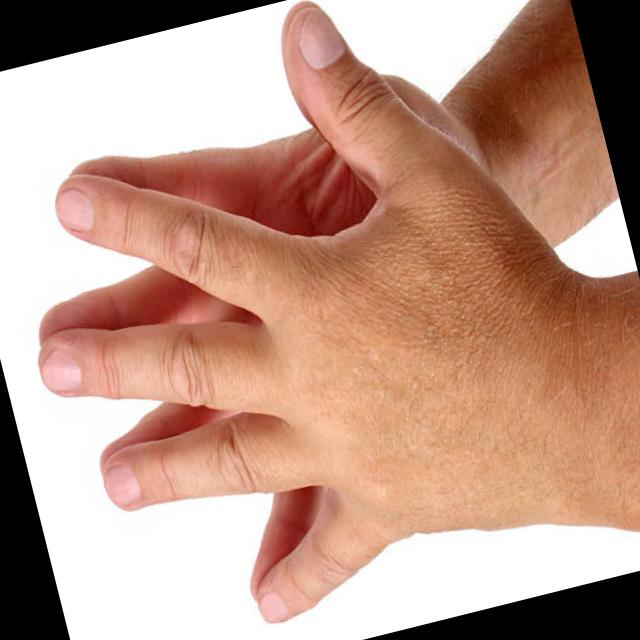Nail: (299, 6, 345, 69), (40, 346, 82, 392), (56, 187, 94, 230), (105, 462, 141, 507), (258, 591, 288, 622)
